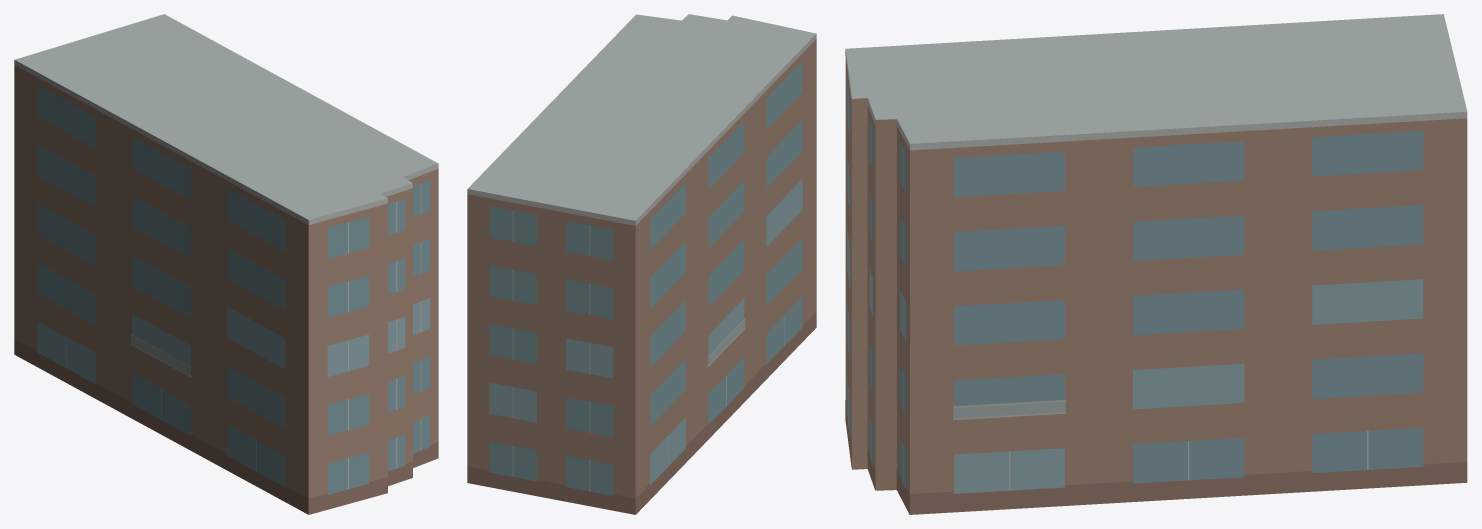
The model's file is survey-upis-32729341.glb.
3 views of the same model, side by side, from view 1: azimuth 30°, elevation 25°; view 2: azimuth 150°, elevation 25°; view 3: azimuth 270°, elevation 25° (orthographic). The views are drawn at different scales.
Visible parts, largest first — view 1: survey-upis-32729341.tmp; view 2: survey-upis-32729341.tmp; view 3: survey-upis-32729341.tmp.
Boxes of the visible parts, x1,y1,x2,y2 form: survey-upis-32729341.tmp: [14, 14, 438, 514]; survey-upis-32729341.tmp: [467, 14, 816, 514]; survey-upis-32729341.tmp: [845, 14, 1467, 514].
Bounding box in the file's own units: 10.54 × 14 × 21.29.
